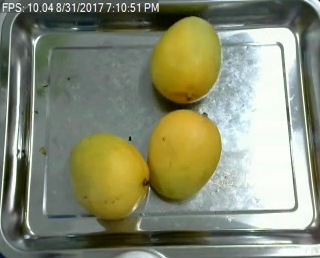Mango: (63, 127, 153, 222), (143, 17, 227, 103), (144, 106, 221, 198)
